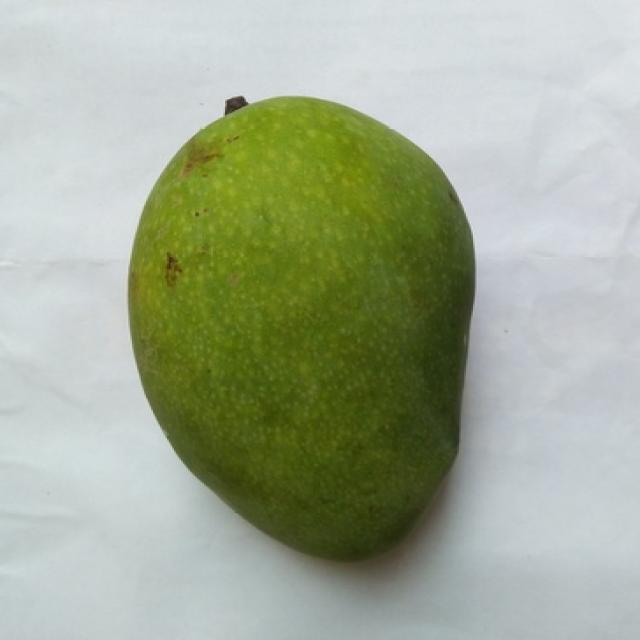Mango: (128, 98, 473, 560)
